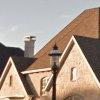Chimney: (20, 28, 37, 69)
